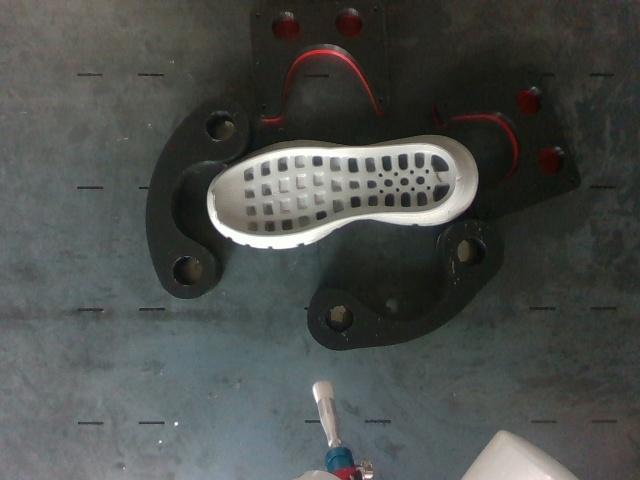shoes: (212, 144, 459, 236)
